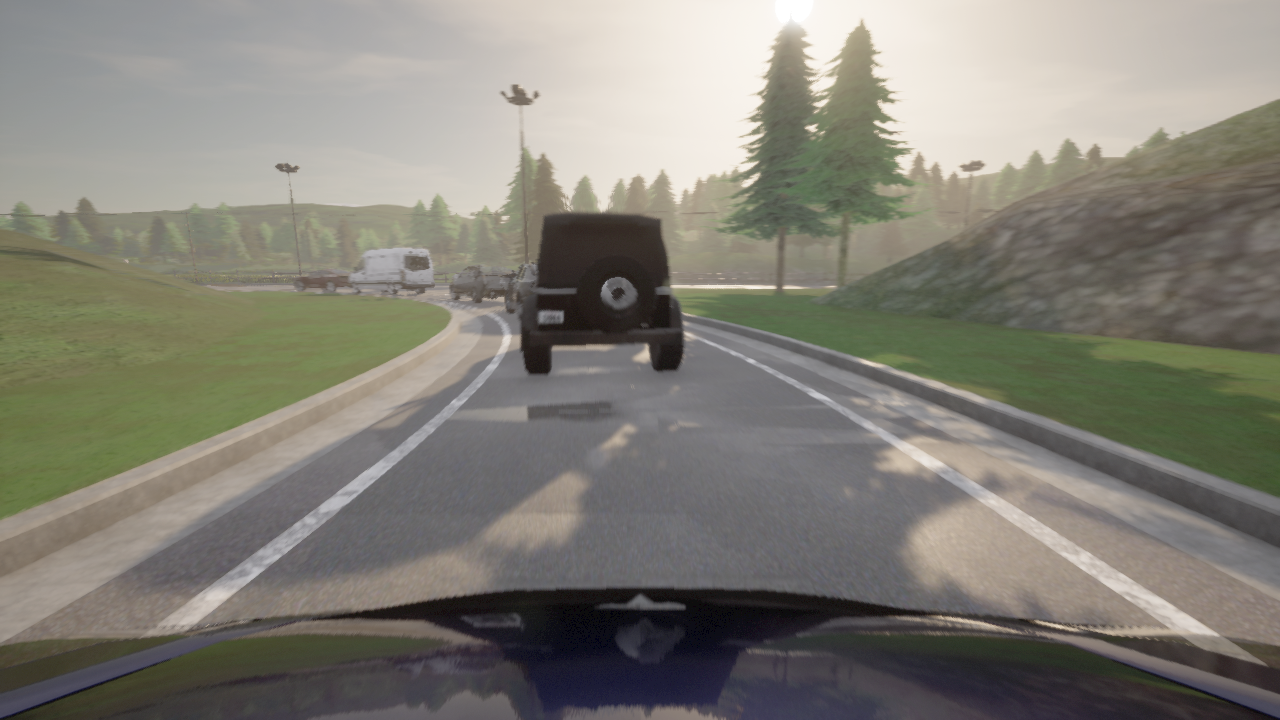cyclist: (0, 588, 1279, 719), (521, 212, 683, 374), (348, 247, 433, 295), (449, 266, 515, 303), (502, 262, 537, 320), (294, 268, 351, 292)
